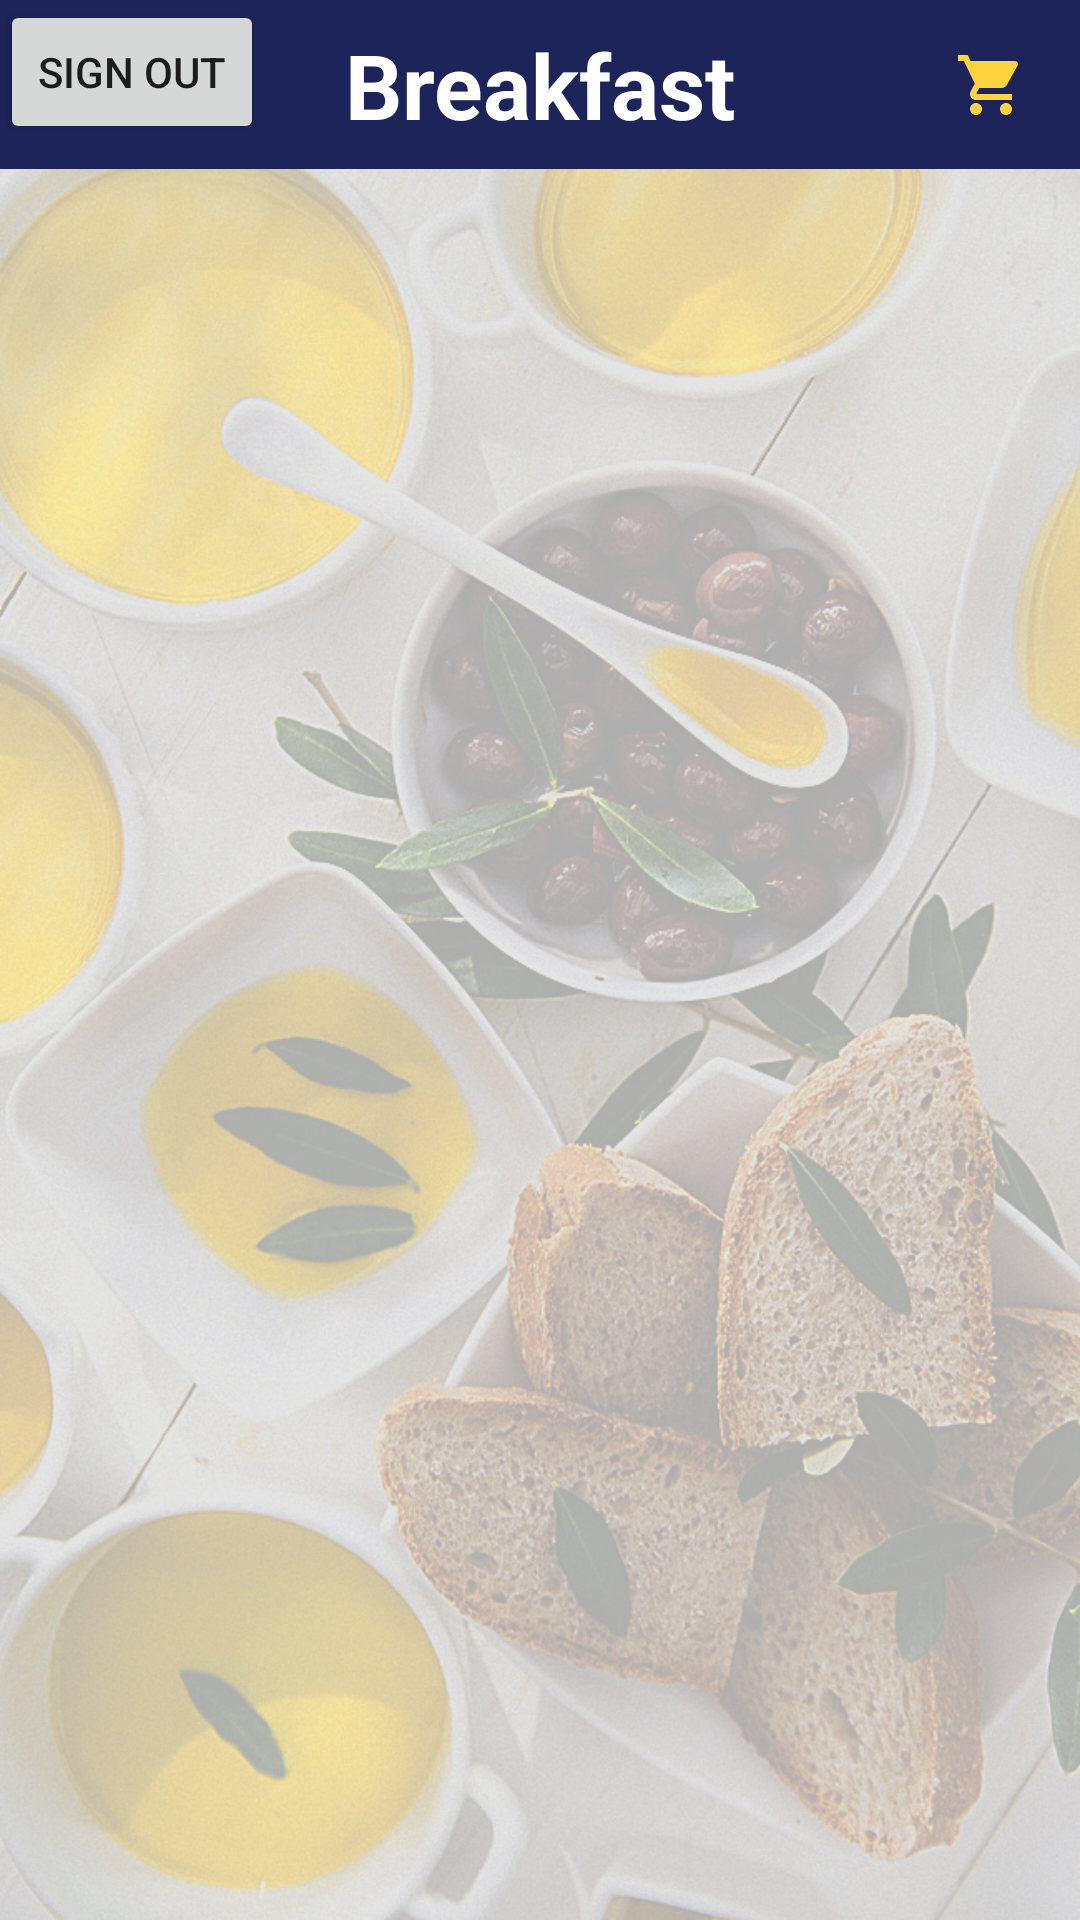

Icons on this 1080px x 1920px Android screen, each with its box as (x1, y1, x2, y2):
cart: (958, 55, 1018, 115)
